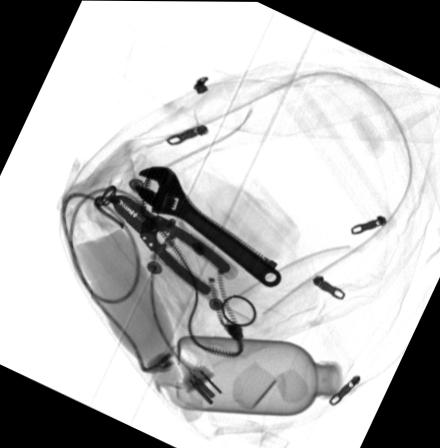Pliers: (108, 191, 240, 302)
Wrench: (133, 165, 281, 285)
